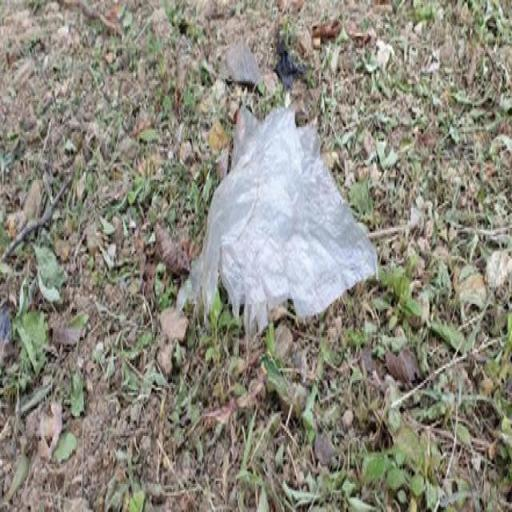plastic-bag: (175, 96, 378, 339)
